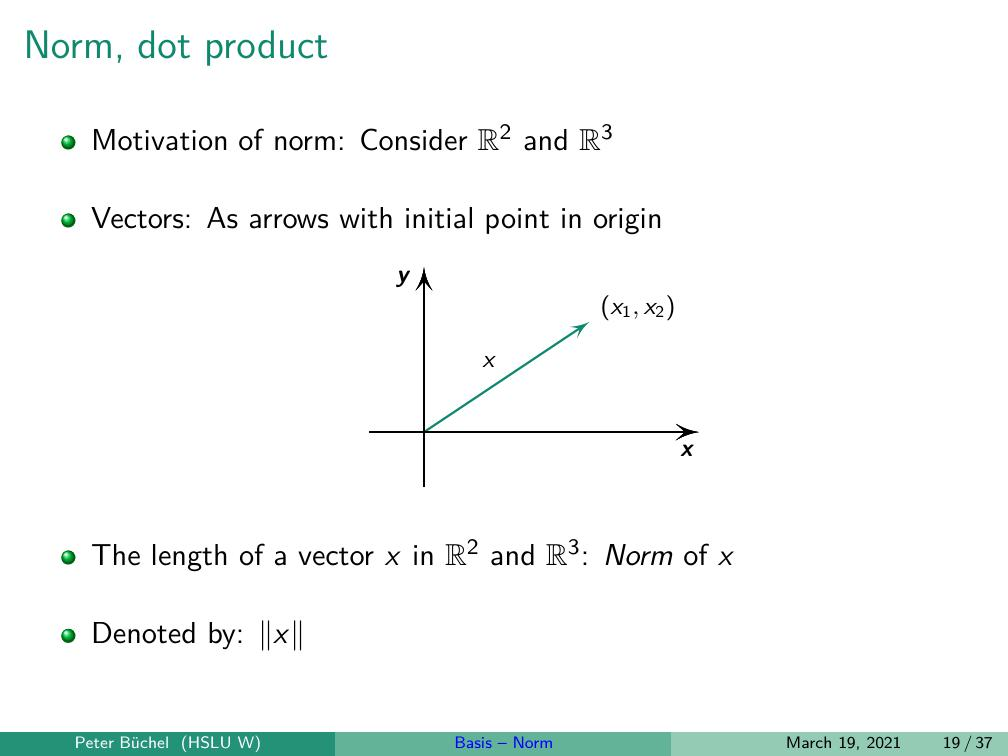Title: (19, 21, 332, 70)
